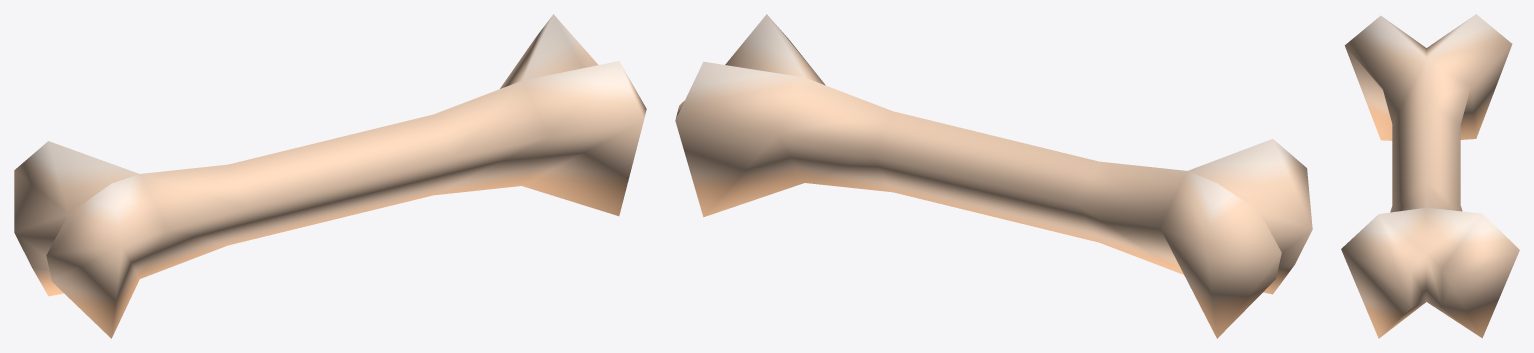
Rendered from Bone_5_color_2.FBX.
3 views of the same model, side by side, from view 1: azimuth 30°, elevation 25°; view 2: azimuth 150°, elevation 25°; view 3: azimuth 270°, elevation 25° (orthographic). The views are drawn at different scales.
Parts seen in each view (by area): view 1: Bone; view 2: Bone; view 3: Bone.
Part boxes in pixels (<box>): Bone: <box>14,14,646,338</box>; Bone: <box>675,14,1312,338</box>; Bone: <box>1341,14,1519,338</box>.
Bounding box in the file's own units: 0.8808 × 0.2175 × 0.2824.
